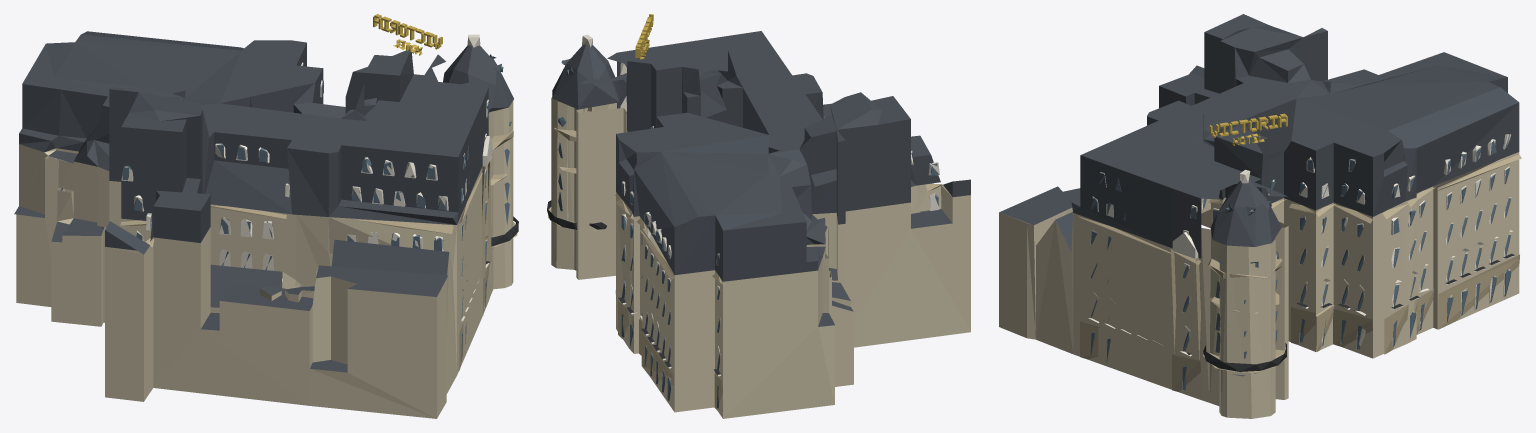
The model's file is victoria-hotel.lod1.glb.
The picture shows the model from 3 angles, left to right: view 1: azimuth 30°, elevation 25°; view 2: azimuth 150°, elevation 25°; view 3: azimuth 270°, elevation 25°; orthographic projection. The views are drawn at different scales.
Parts seen in each view (by area): view 1: victoria-hotel; view 2: victoria-hotel; view 3: victoria-hotel.
Part boxes in pixels (x1,y1,x2,y2): victoria-hotel: (14,14,518,418); victoria-hotel: (547,14,970,418); victoria-hotel: (999,14,1521,418).
Size of the model in its own units: 53.92 by 32.17 by 59.92.
